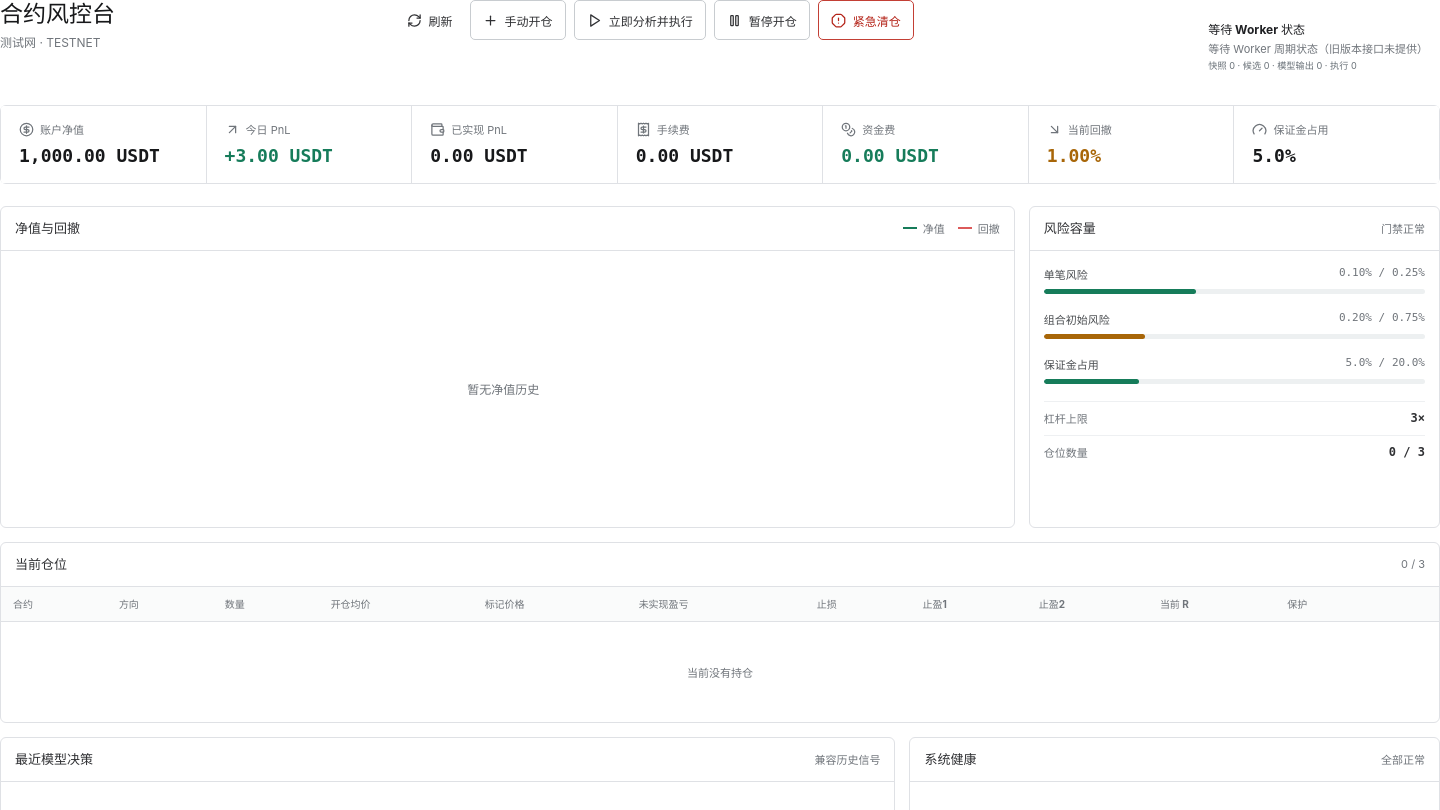
DashboardPage › opens a manual entry desk with a separate AI advice conversation
Step 1. Click the button "手动开仓" → click(518, 20), box top-left (470, 0), bottom-right (566, 40)
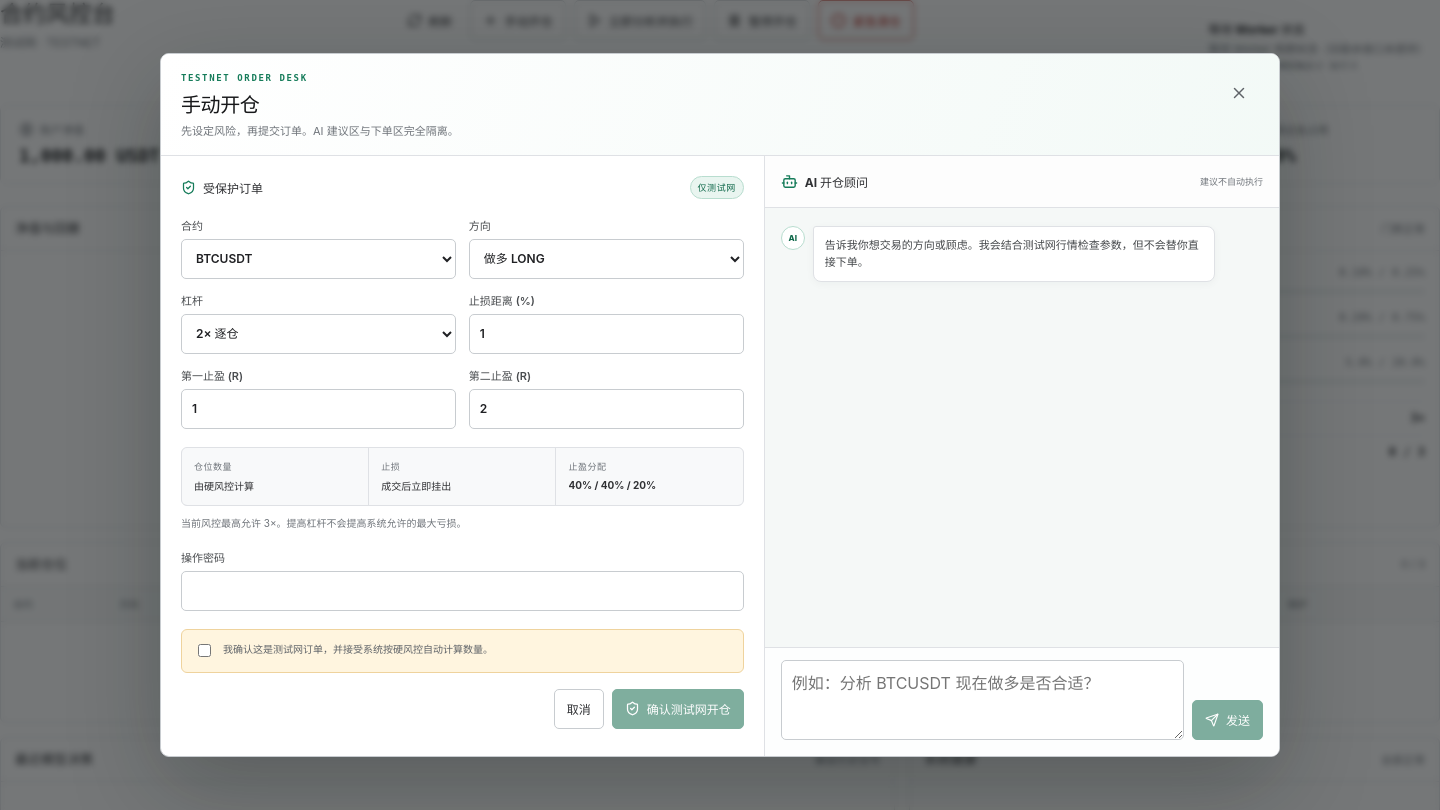
Expected: the dialog "手动开仓" is shown
Step 2. Type "现在适合做多吗？" into the text box named "向 AI 询问开仓建议" → (982, 700), box top-left (781, 660), bottom-right (1184, 740)
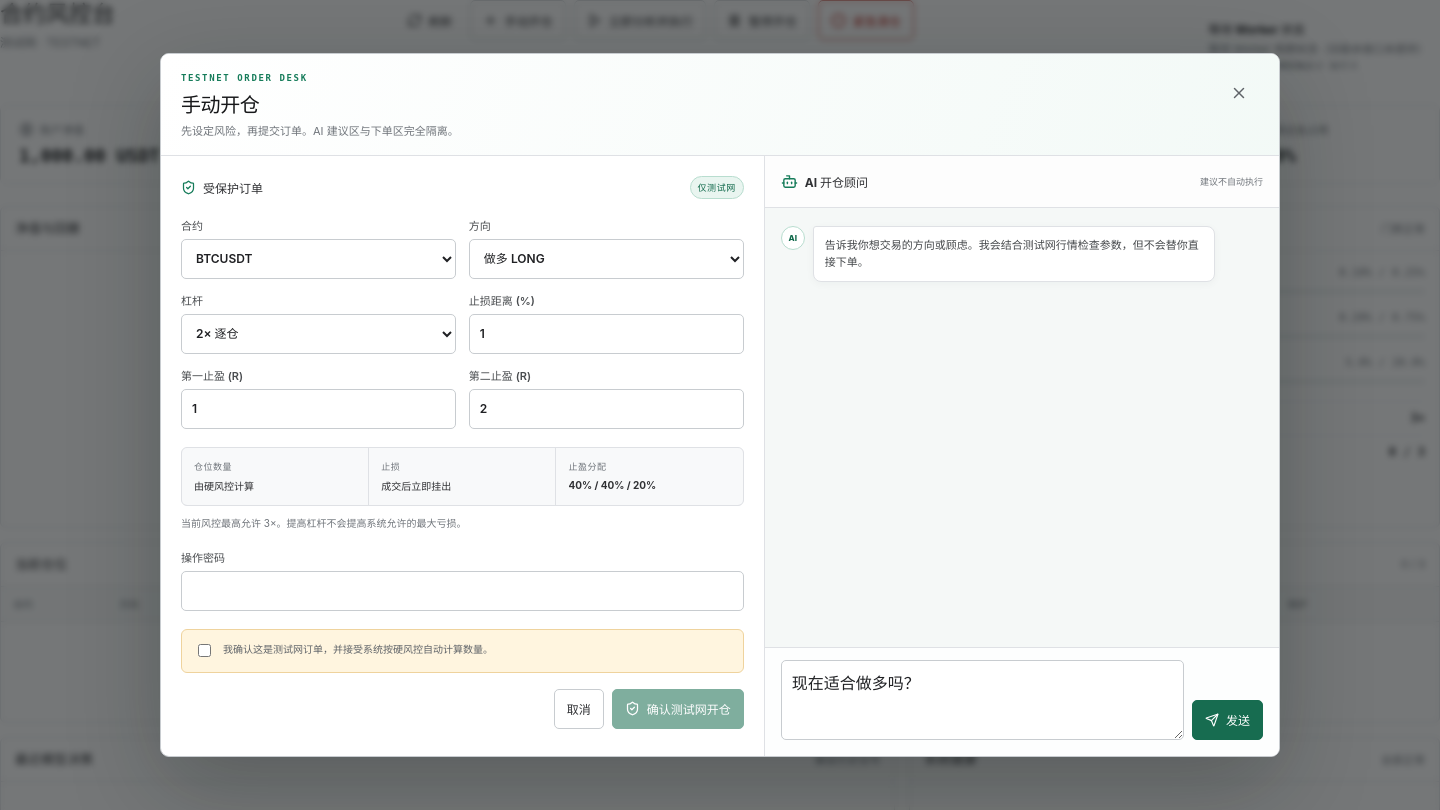
Step 3. Click the button "发送" → click(1228, 720), box top-left (1192, 700), bottom-right (1263, 740)
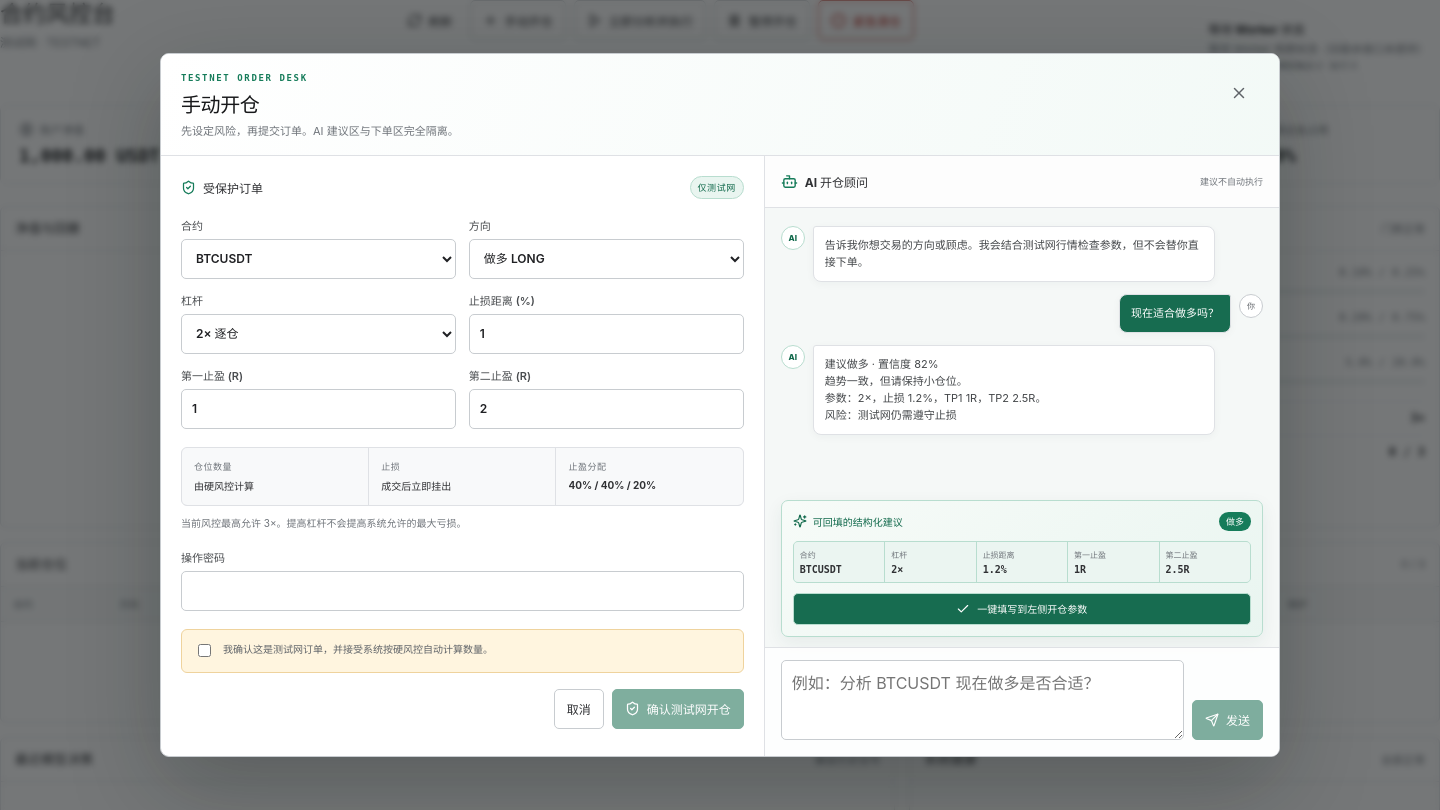
Expected: the text "趋势一致" is shown, top-left (825, 357), bottom-right (1046, 422)
